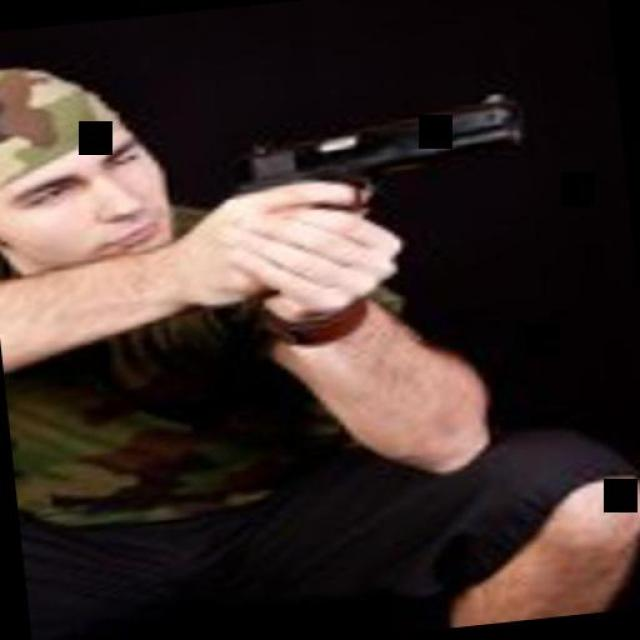gun: (208, 78, 564, 324)
